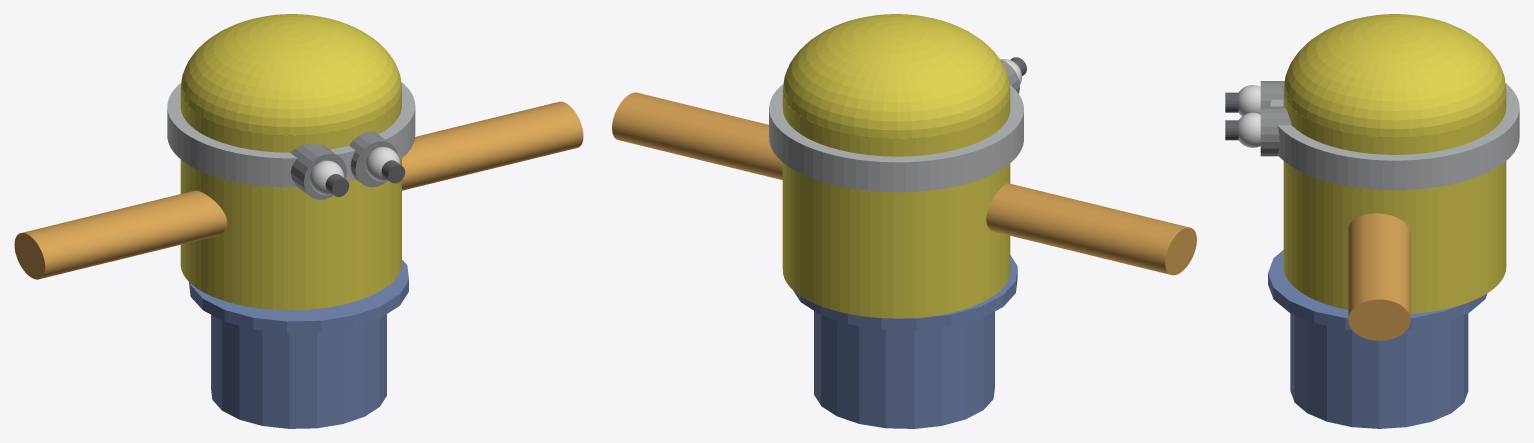
The model's file is Minion.glb.
3 views of the same model, side by side, from view 1: azimuth 30°, elevation 25°; view 2: azimuth 150°, elevation 25°; view 3: azimuth 270°, elevation 25° (orthographic). The views are drawn at different scales.
Visible parts, largest first — view 1: Mesh_Mesh_head_geo.001_lambert2SG.001; view 2: Mesh_Mesh_head_geo.001_lambert2SG.001; view 3: Mesh_Mesh_head_geo.001_lambert2SG.001.
Part boxes in pixels (x1=…): Mesh_Mesh_head_geo.001_lambert2SG.001: x1=14, y1=14, x2=583, y2=428; Mesh_Mesh_head_geo.001_lambert2SG.001: x1=612, y1=14, x2=1196, y2=428; Mesh_Mesh_head_geo.001_lambert2SG.001: x1=1225, y1=14, x2=1519, y2=428.
Bounding box in the file's own units: 0.125 × 0.079 × 0.0585.
